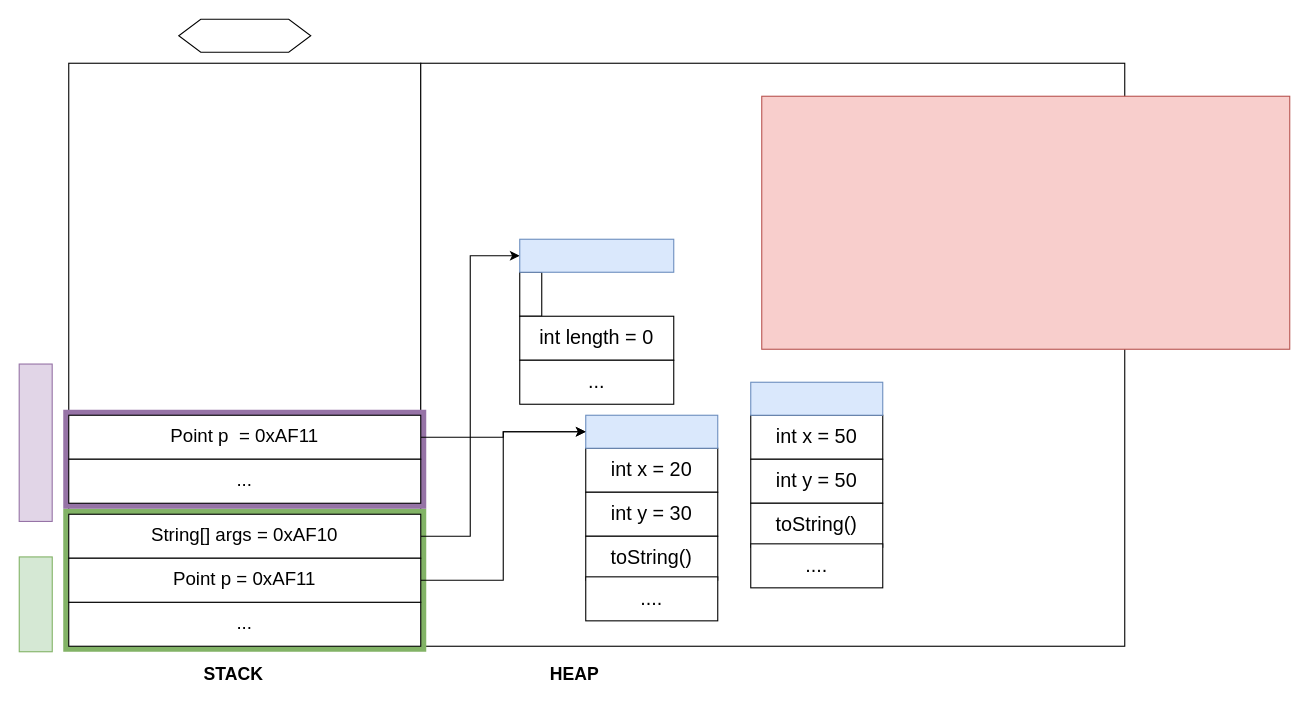
Some shapes in this 1310 by 710 pixel diagram are drawn without their labels. The shapes that lost their labels are listed below. From the top down, each one's centre as x and y in pixels, then its label:
(x=244, y=35): main thread
(x=596, y=255): 0xAF10
(x=816, y=398): 0xAF12
(x=35, y=442): updatePoints2()
(x=651, y=431): 0xAF11
(x=35, y=604): main()
